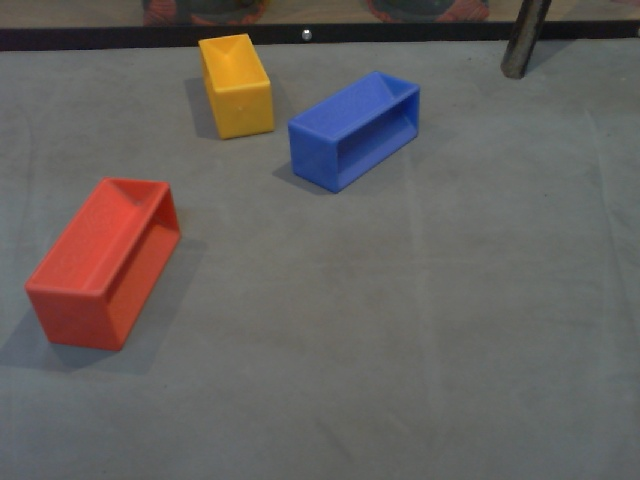BlueSample: (284, 68, 421, 197)
RedSample: (24, 175, 181, 353)
YellowSample: (197, 32, 279, 144)
